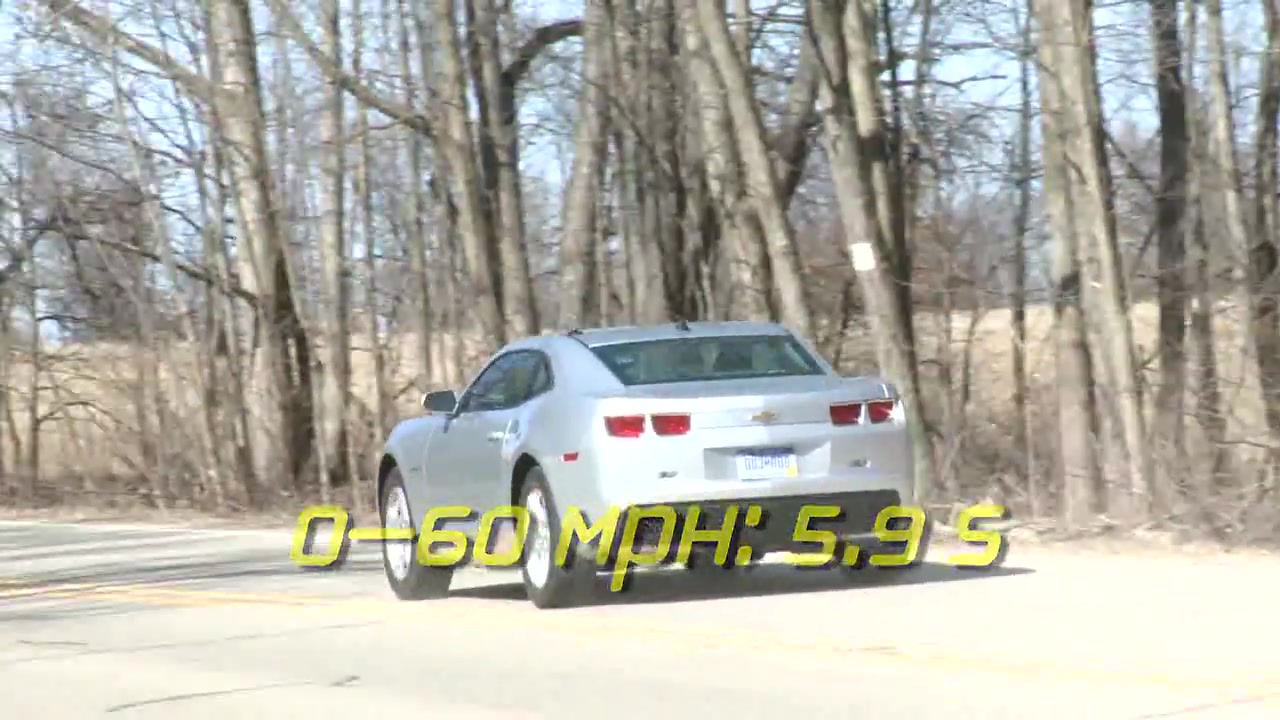car: (375, 320, 925, 614)
